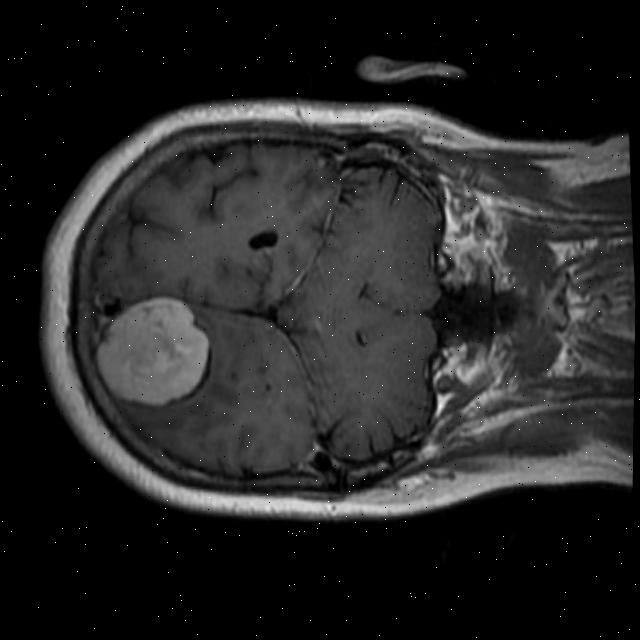Meningioma: (88, 289, 218, 412)
